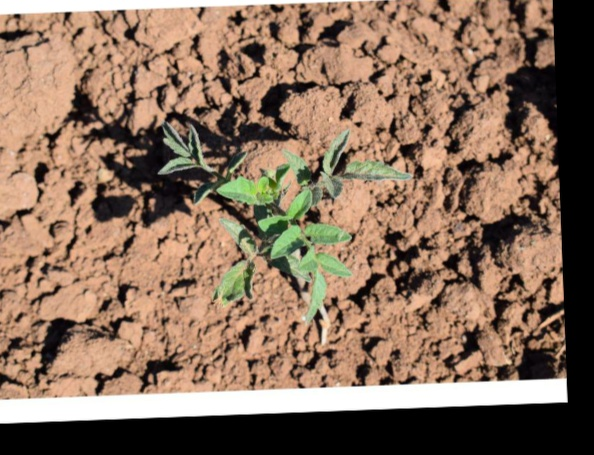tomato: (161, 114, 414, 322)
